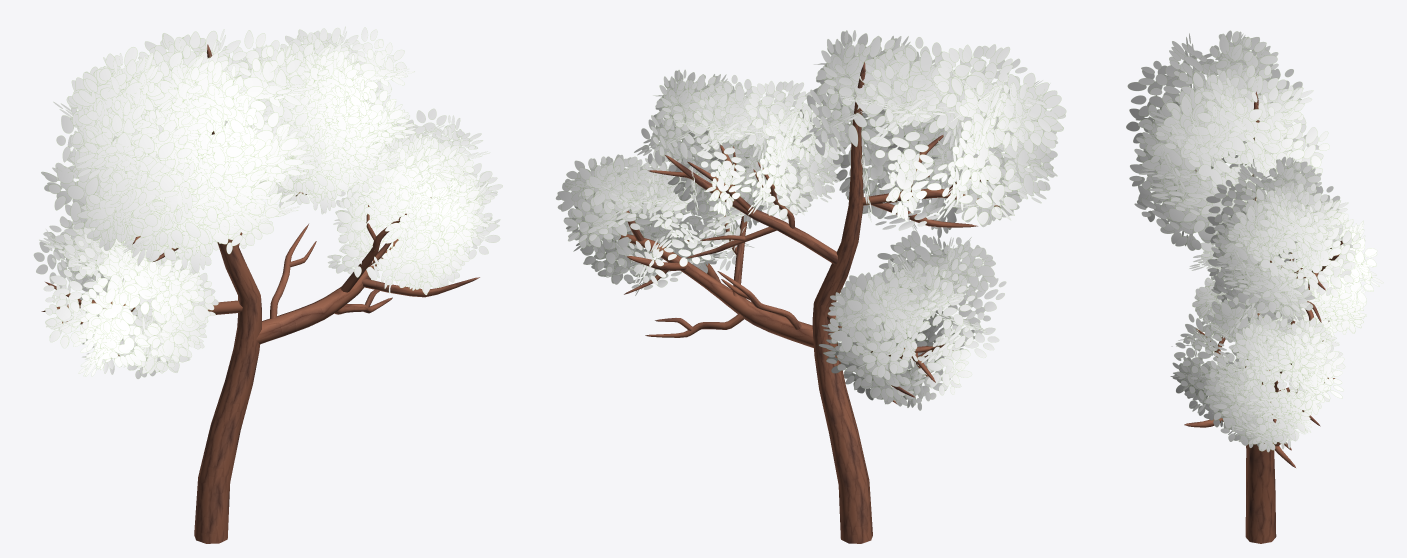
Rendered from tree3.glb.
3 views of the same model, side by side, from view 1: azimuth 30°, elevation 25°; view 2: azimuth 150°, elevation 25°; view 3: azimuth 270°, elevation 25° (orthographic). The views are drawn at different scales.
Visible parts, largest first — view 1: NormalTree_3; view 2: NormalTree_3; view 3: NormalTree_3.
Boxes of the visible parts, left/top/right/bottom form: NormalTree_3: left=33, top=27, right=502, bottom=543; NormalTree_3: left=556, top=30, right=1066, bottom=543; NormalTree_3: left=1126, top=30, right=1383, bottom=543.
Size of the model in its own units: 5.04 by 5.28 by 2.88.
2 materials, 2 textured.
